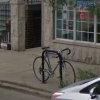Bicycle: (28, 42, 77, 88)
